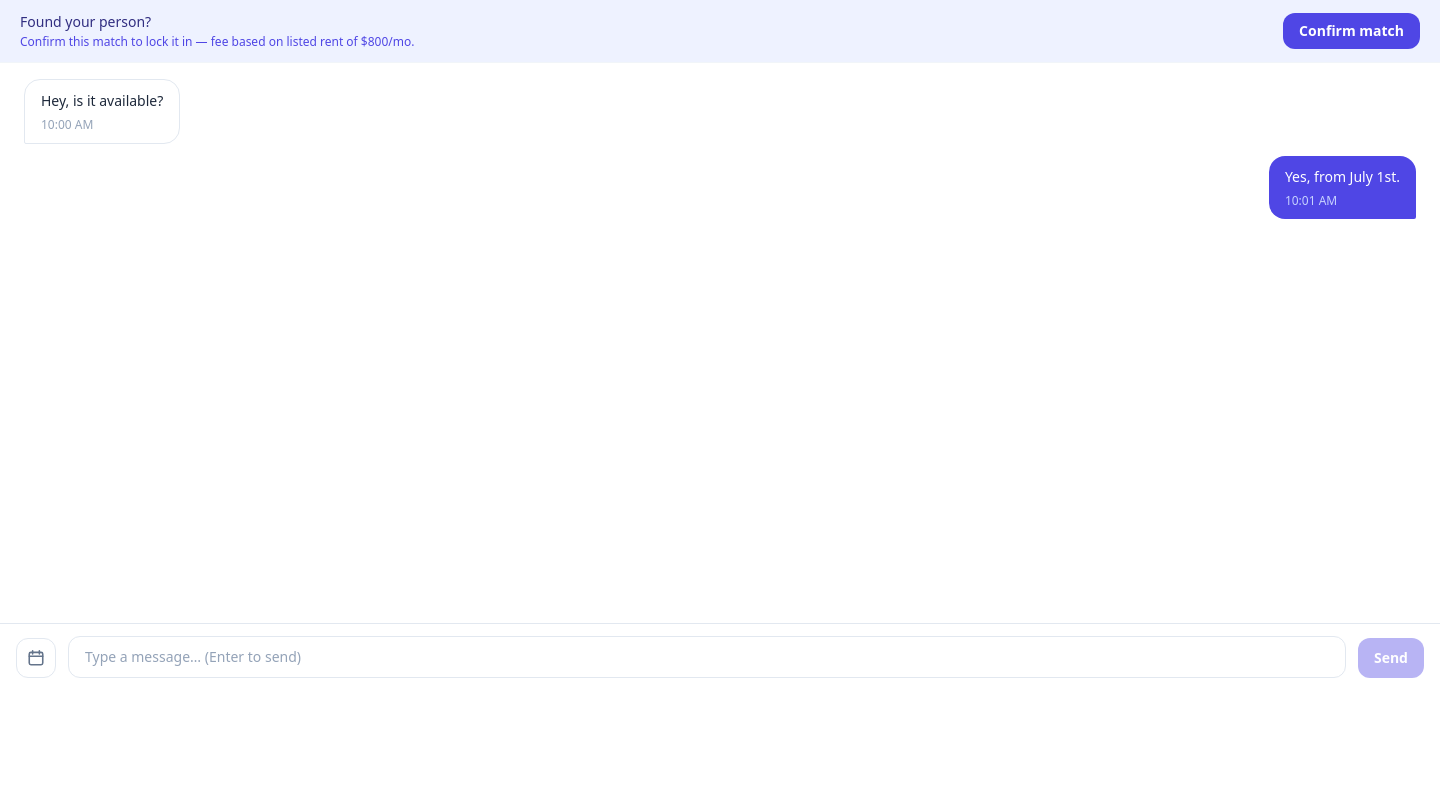
lister view (unconfirmed) › shows base fee for under-$1,000/mo listing ($29)
Click the button "Confirm match": (1352, 31) [1283, 13, 1420, 49]
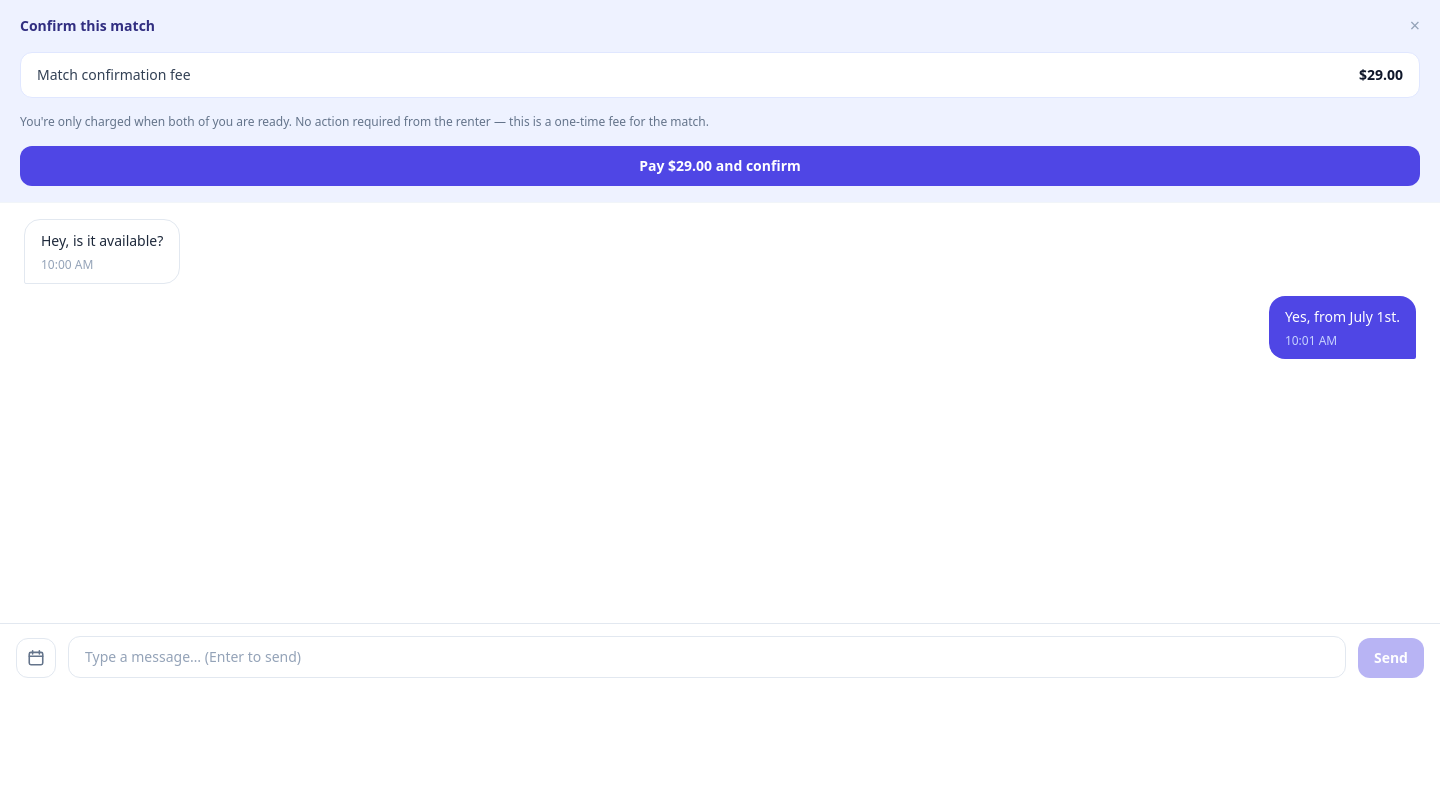
expect the text "$29.00" is shown: met, box [1359, 65, 1403, 85]
